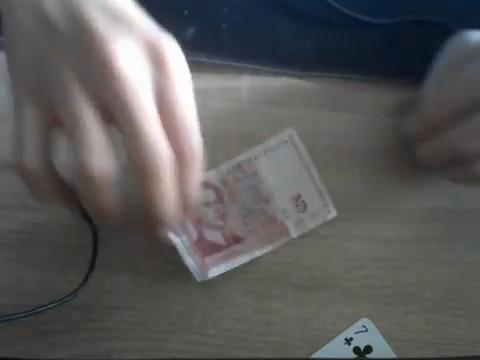5leva: (167, 128, 337, 283)
